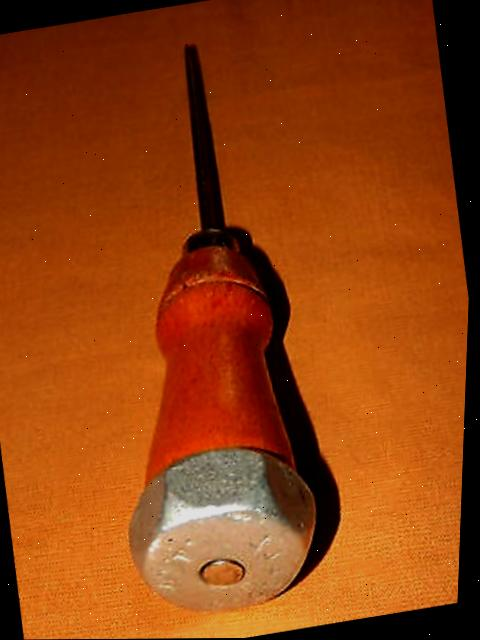ice pick: (57, 30, 350, 624)
